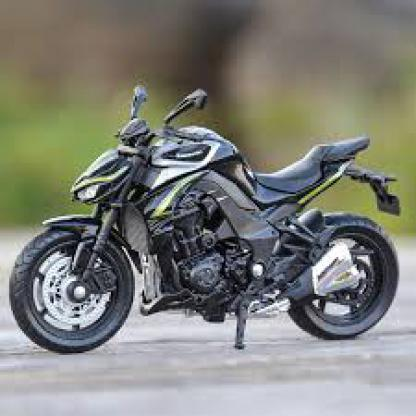Motorcycle: (8, 78, 403, 355)
